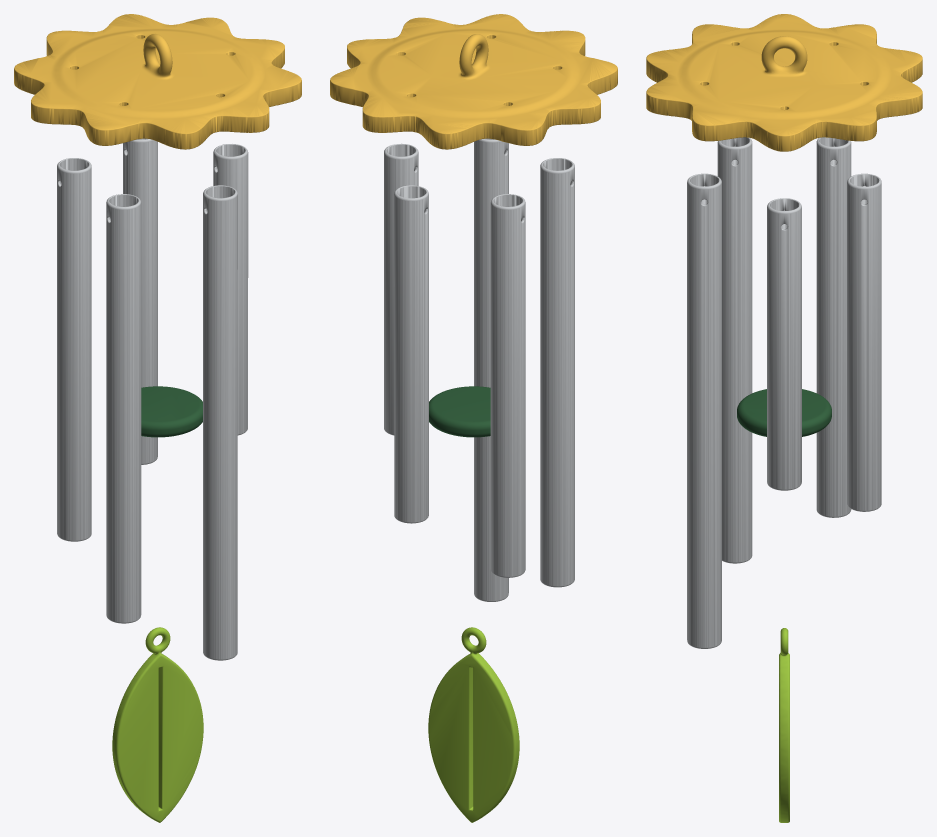
File: ringtone.glb
3 views of the same model, side by side, from view 1: azimuth 30°, elevation 25°; view 2: azimuth 150°, elevation 25°; view 3: azimuth 270°, elevation 25° (orthographic).
Parts seen in each view (by area): view 1: rt-tube0, rt-sun, rt-leaf, rt-clapper; view 2: rt-tube0, rt-sun, rt-leaf, rt-clapper; view 3: rt-tube0, rt-sun, rt-clapper, rt-leaf.
Boxes of the visible parts, left/top/right/bottom form: rt-tube0: left=57, top=138, right=248, bottom=660; rt-sun: left=14, top=14, right=301, bottom=149; rt-leaf: left=112, top=627, right=203, bottom=822; rt-clapper: left=141, top=386, right=202, bottom=437; rt-tube0: left=384, top=138, right=574, bottom=601; rt-sun: left=330, top=14, right=617, bottom=149; rt-leaf: left=428, top=627, right=519, bottom=822; rt-clapper: left=429, top=386, right=490, bottom=437; rt-tube0: left=687, top=137, right=881, bottom=648; rt-sun: left=646, top=14, right=922, bottom=151; rt-clapper: left=737, top=389, right=831, bottom=436; rt-leaf: left=779, top=628, right=789, bottom=822.
Bounding box in the file's own units: 0.1032 × 0.3096 × 0.0986.
